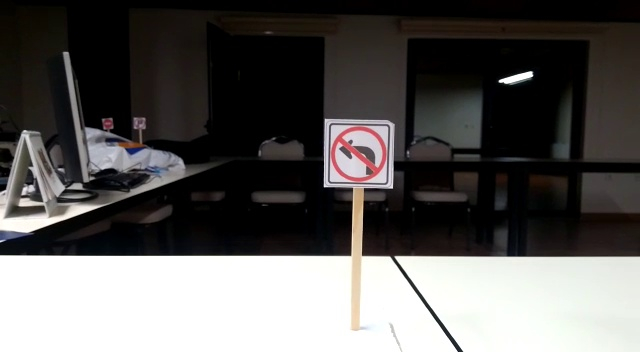sola_donulmez: (322, 122, 392, 184)
